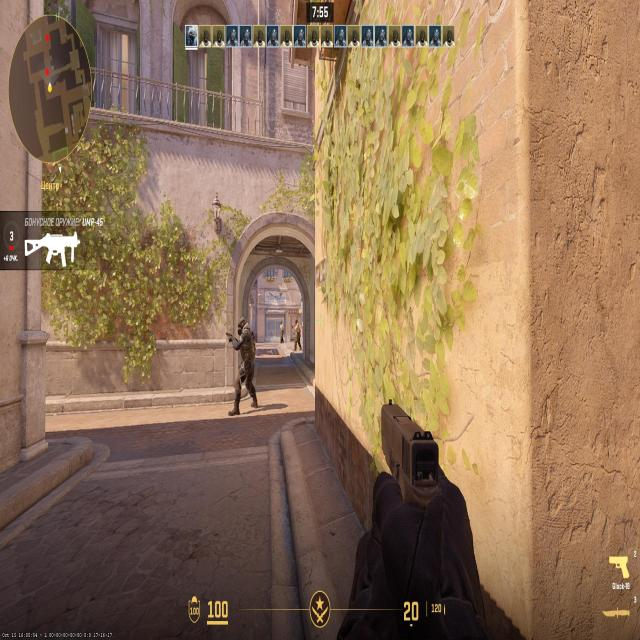CT: (240, 321, 252, 381)
CT_heat: (242, 322, 248, 336)
T: (295, 323, 301, 348), (280, 322, 283, 342)
T_heat: (296, 323, 300, 328), (280, 320, 282, 326)
